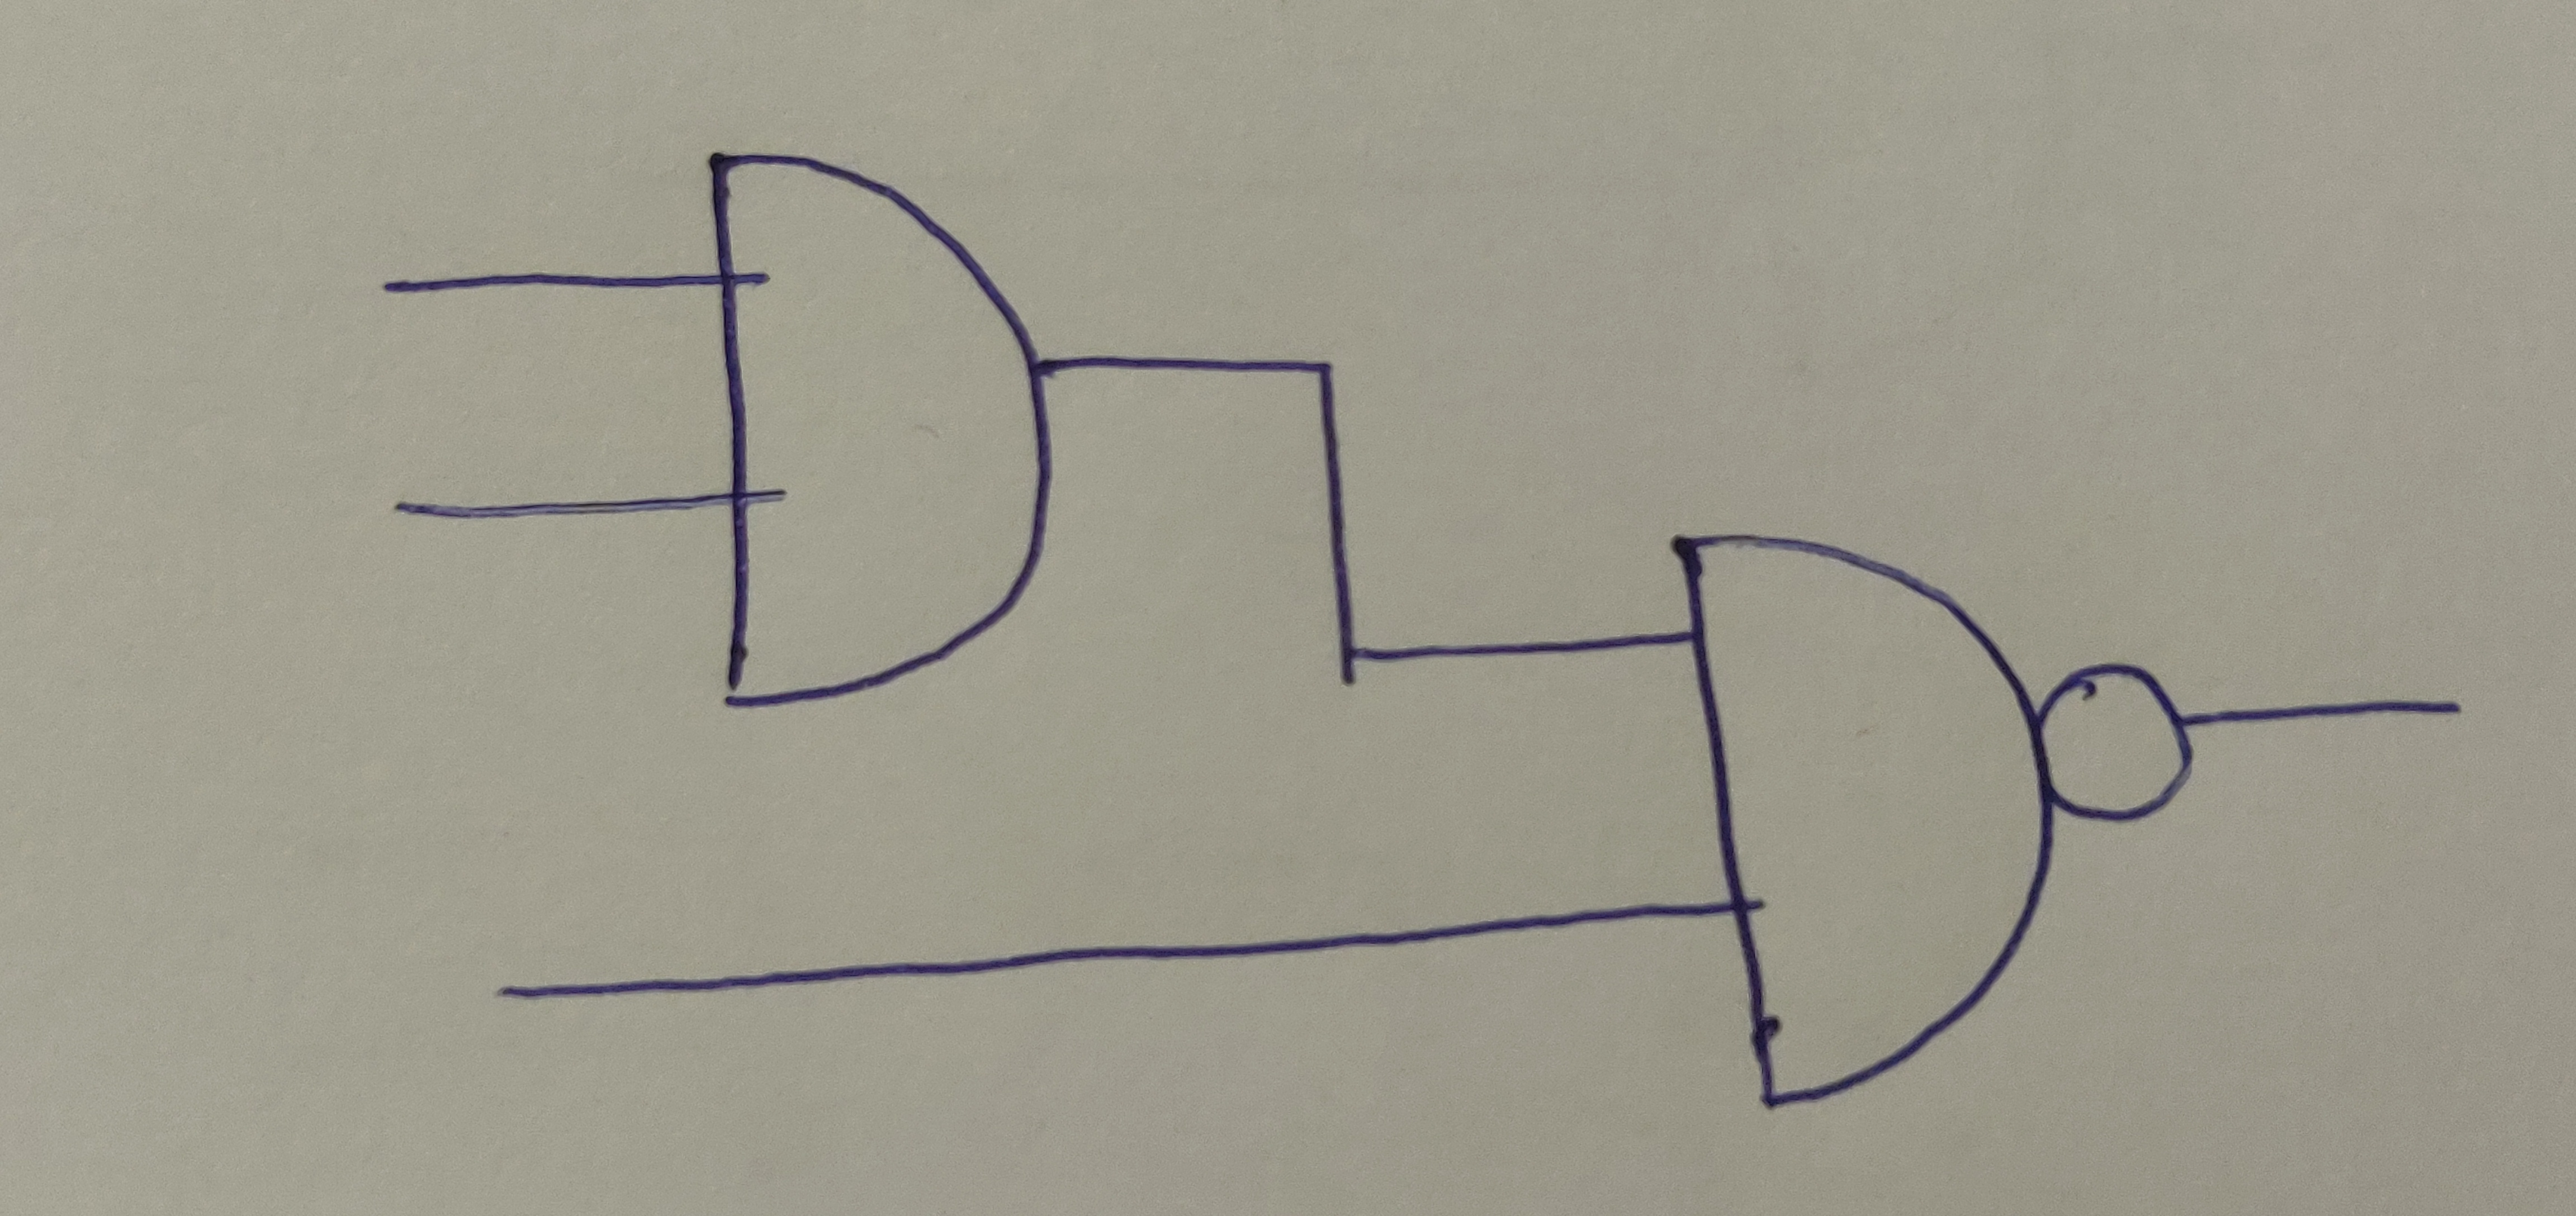and: (1671, 526, 2047, 1106), (705, 150, 1046, 708)
not: (2039, 674, 2190, 823)
